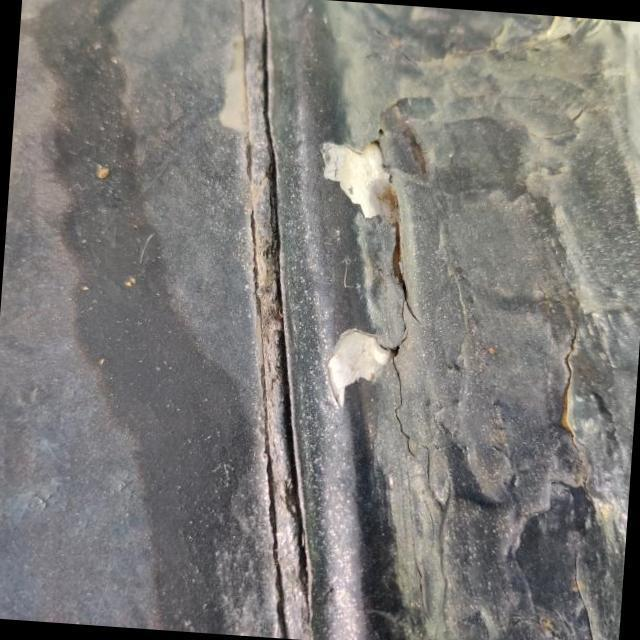Rupture: (286, 82, 486, 492), (523, 310, 640, 640)
